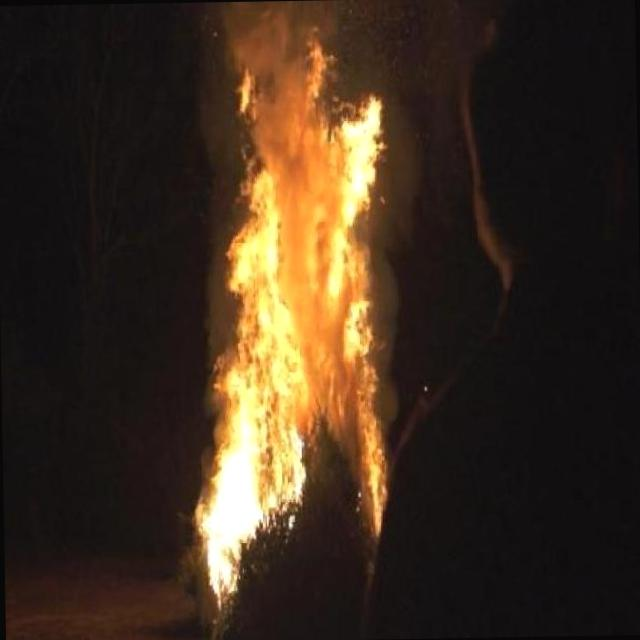fire: (143, 0, 430, 583)
